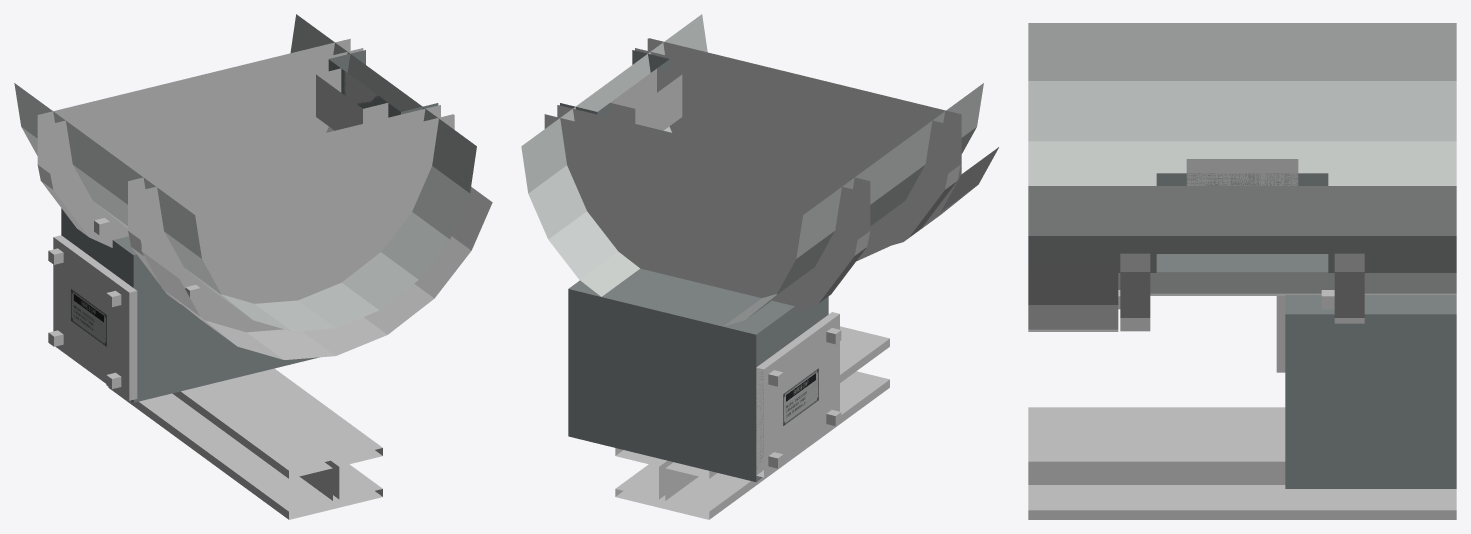
The model's file is cell_42.obj.
3 views of the same model, side by side, from view 1: azimuth 30°, elevation 25°; view 2: azimuth 150°, elevation 25°; view 3: azimuth 270°, elevation 25° (orthographic). The views are drawn at different scales.
Size of the model in its own units: 1 by 1 by 1.
